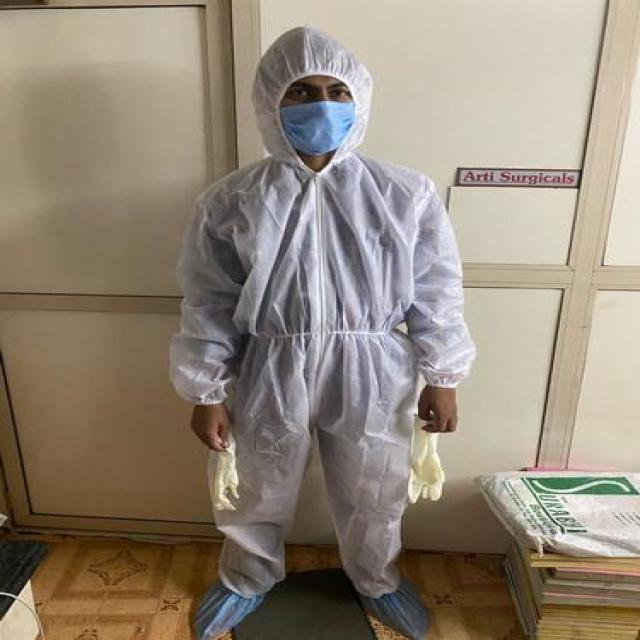Coverall: (131, 2, 481, 640)
Mask: (272, 94, 388, 142)
